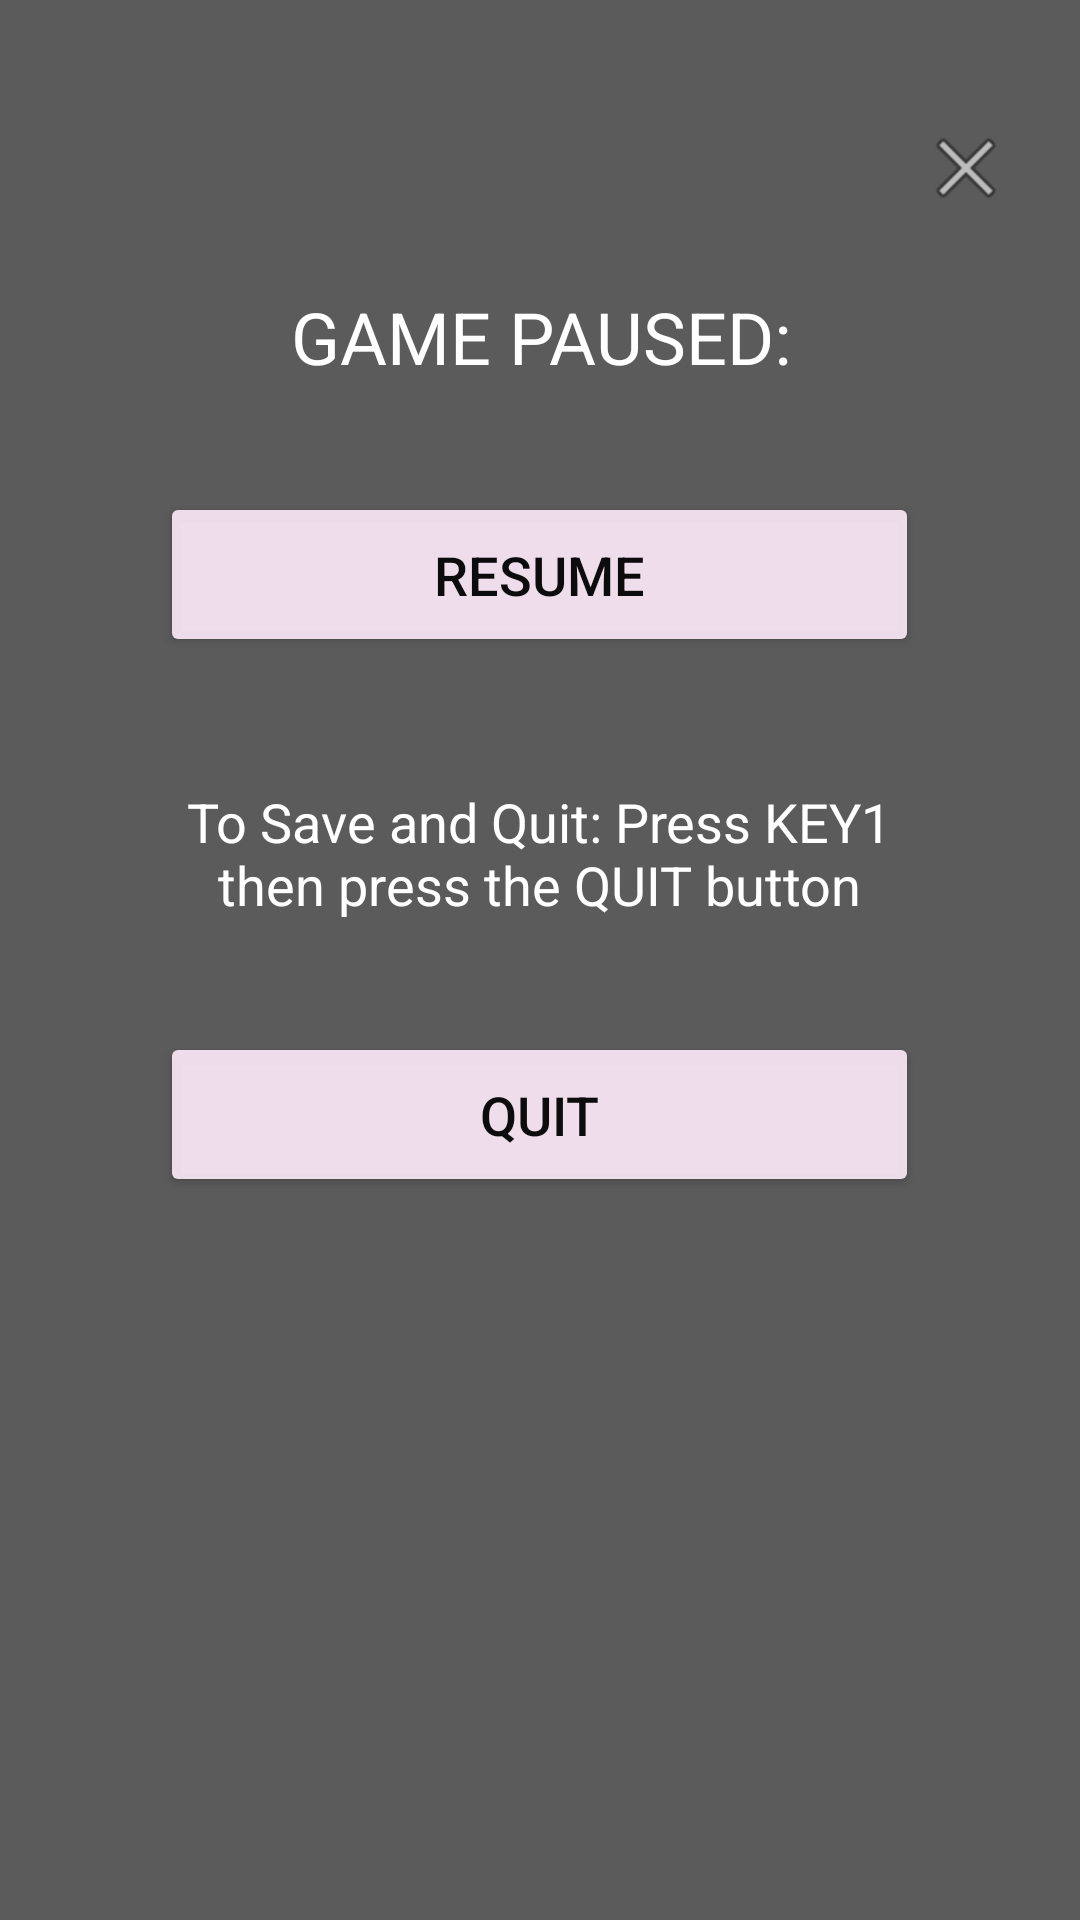

Icons on this 1080 x 1920 Android screen, each with the point to tap as [x,y]:
close clear cancel: [966,168]
